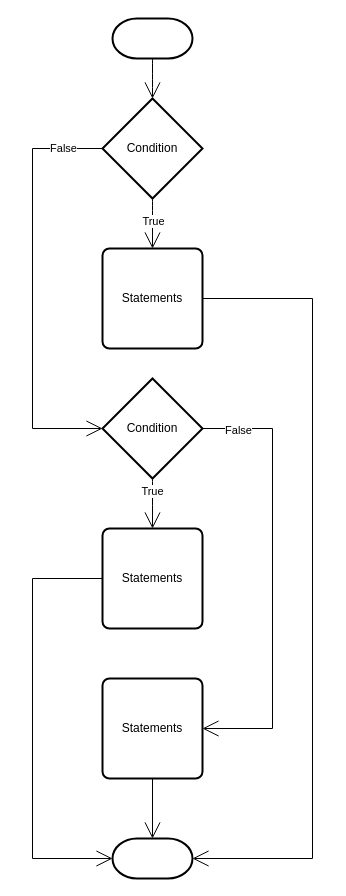
Some shapes in this 346 by 896 pixel diagram are drawn without their labels. The box of each missing label's shape, as (x1, y1, x2, y2) in pixels:
End: (111, 837, 193, 879)
If: (111, 17, 193, 59)
